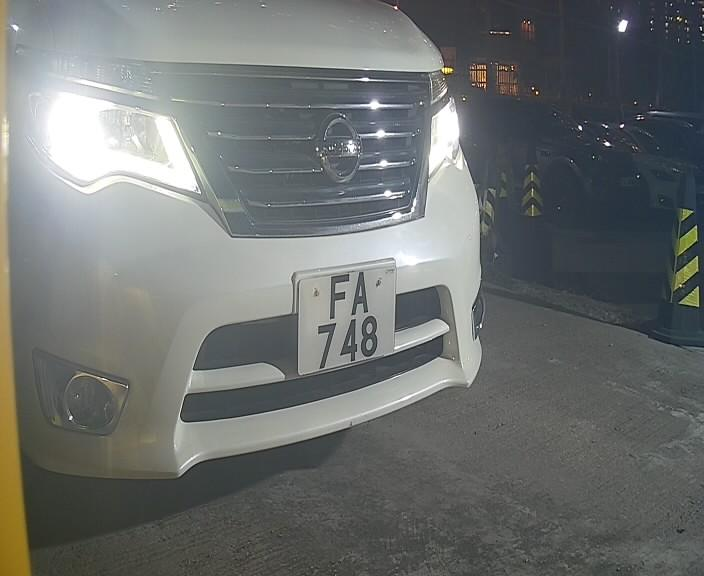Car: (1, 8, 525, 520)
License Plate: (287, 250, 406, 389)
